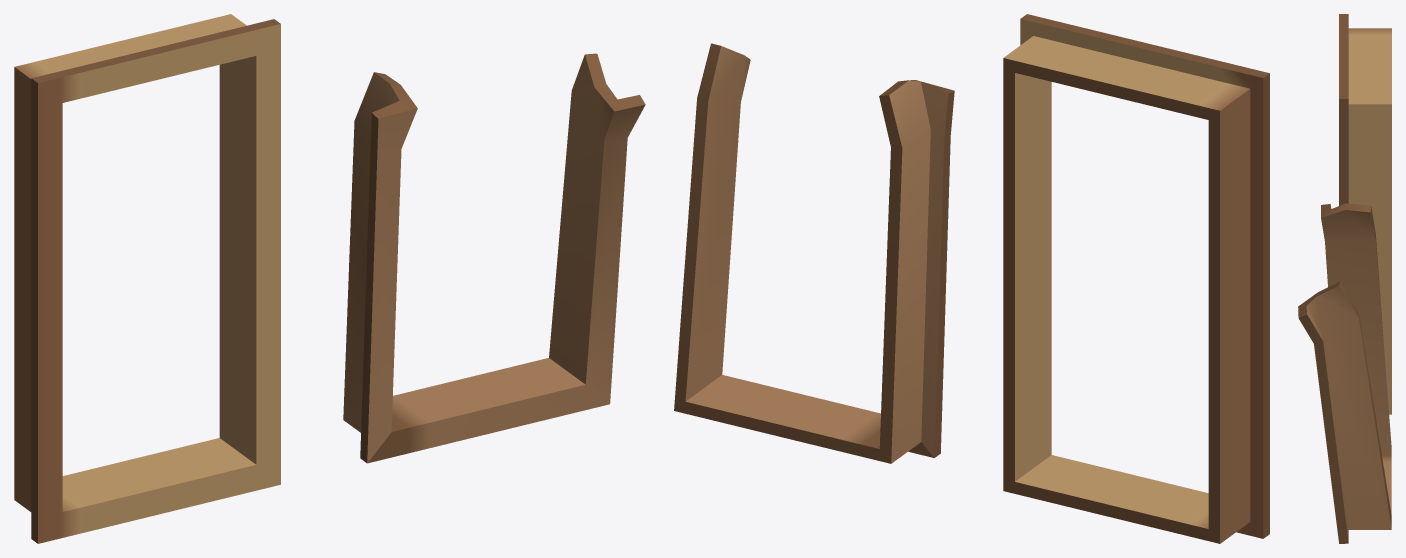
The model's file is DBK_WinDouble_A_90.fbx.
3 renders of one model, left to right at view 1: azimuth 30°, elevation 25°; view 2: azimuth 150°, elevation 25°; view 3: azimuth 270°, elevation 25°, orthographic. The views are drawn at different scales.
Visible parts, largest first — view 1: DBK_WinDouble_A_90; view 2: DBK_WinDouble_A_90; view 3: DBK_WinDouble_A_90.
Part boxes in pixels (<box>): DBK_WinDouble_A_90: <box>14,14,645,543</box>; DBK_WinDouble_A_90: <box>674,14,1269,543</box>; DBK_WinDouble_A_90: <box>1298,14,1391,543</box>.
Size of the model in its own units: 176 by 134 by 34.44.
